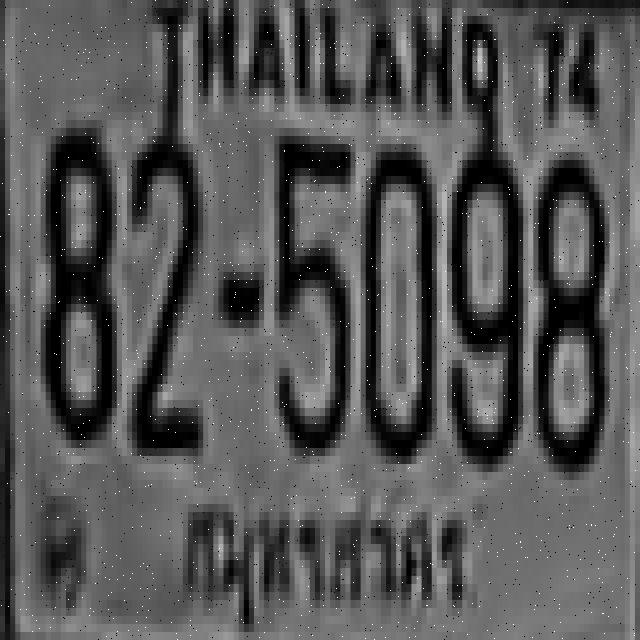0: (361, 136, 432, 456)
2: (130, 136, 200, 448), (130, 124, 200, 420)
5: (272, 128, 348, 448)
8: (528, 152, 604, 464), (36, 124, 111, 436)
9: (447, 140, 518, 460)
SamutSakhon: (170, 471, 476, 640)
